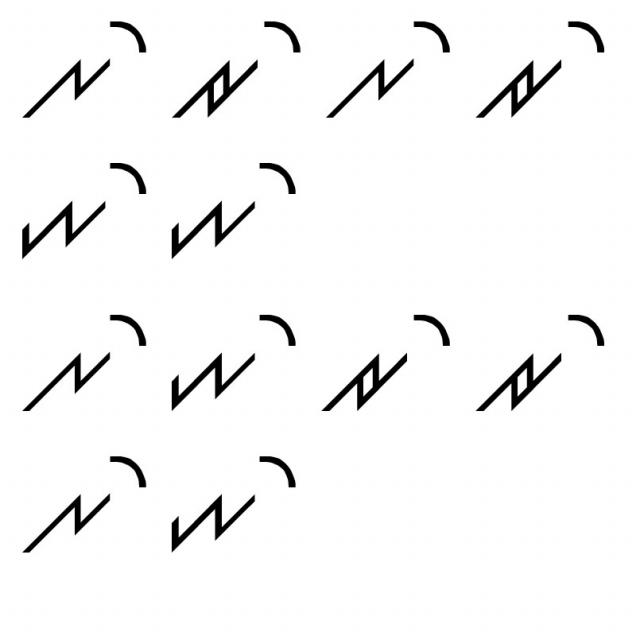lay: (14, 447, 150, 563), (20, 302, 153, 418), (18, 16, 150, 129), (328, 16, 452, 130)
ray: (311, 302, 455, 425), (471, 307, 609, 424), (472, 13, 610, 127), (165, 19, 306, 123)
yay: (165, 444, 301, 564), (169, 150, 304, 262), (169, 304, 300, 419), (16, 158, 152, 258)
